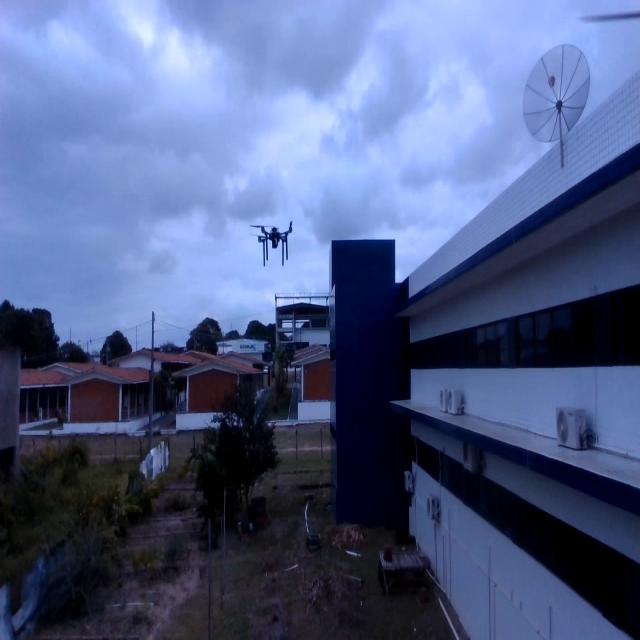-uav-: (249, 204, 299, 276)
